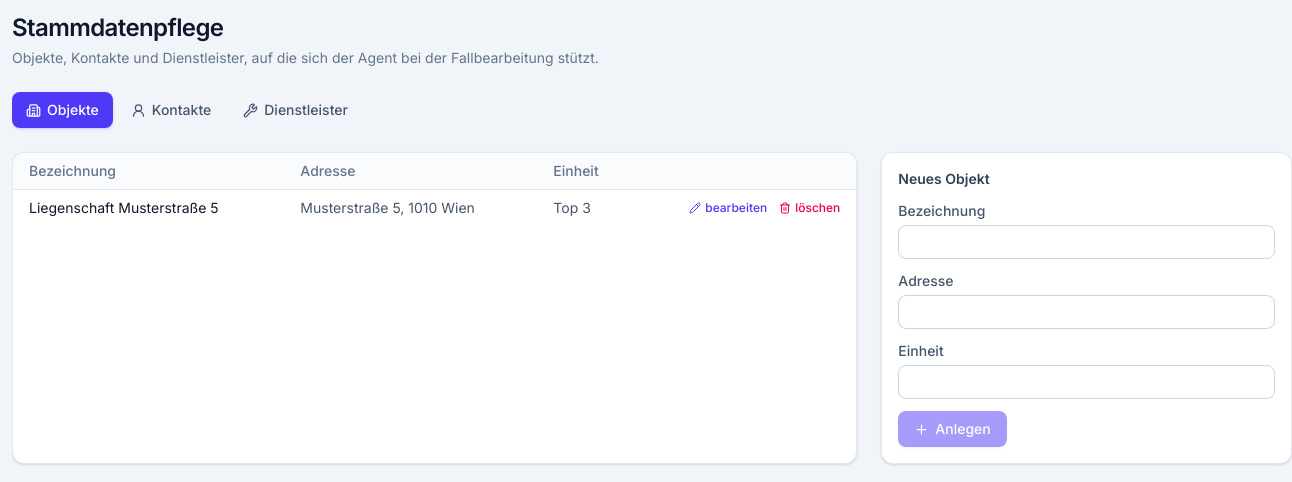
Test: Stammdaten › Objekt: abbrechen verwirft Änderungen ohne PUT-Aufruf
Expected: the text "Liegenschaft Musterstraße 5" is shown, x1=13 y1=190 x2=284 y2=226
Click the button "bearbeiten": (728, 208) x1=689 y1=200 x2=767 y2=216
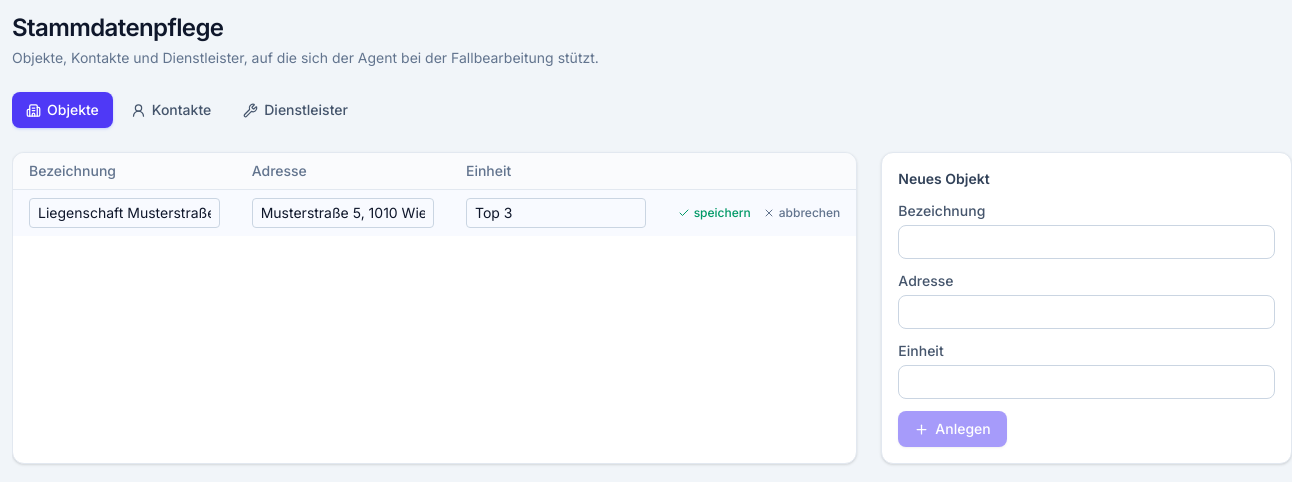
Click the button "abbrechen": (802, 213) x1=763 y1=205 x2=840 y2=221
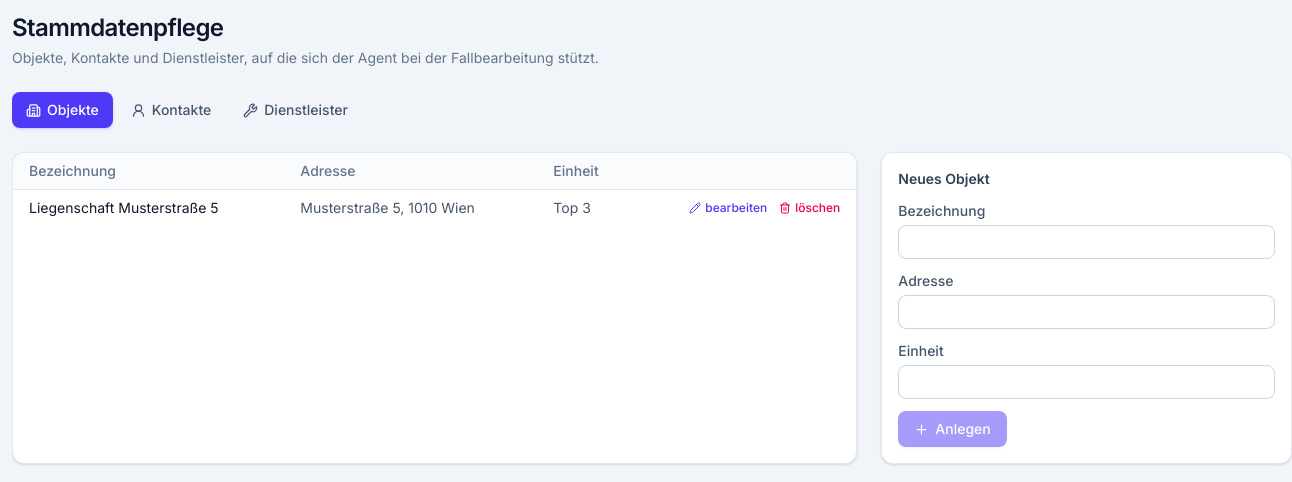
Expected: the text "Liegenschaft Musterstraße 5" is shown, x1=13 y1=190 x2=284 y2=226
